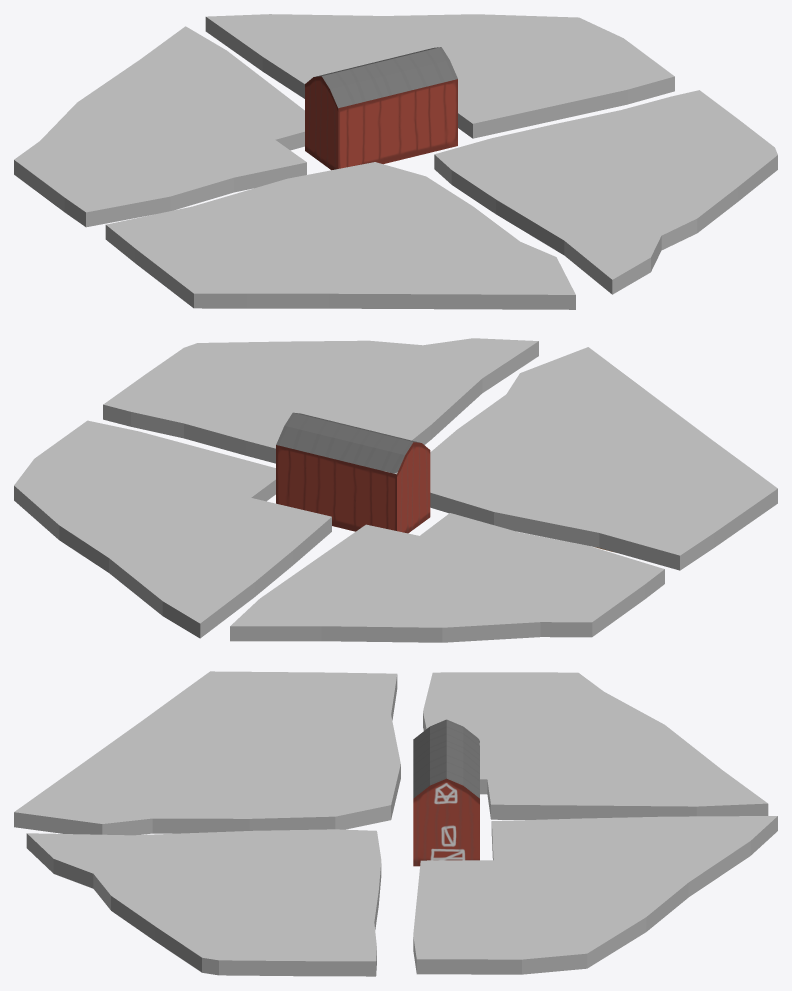
Rendered from Farm Add on.fbx.
3 renders of one model, top to bottom at view 1: azimuth 30°, elevation 25°; view 2: azimuth 150°, elevation 25°; view 3: azimuth 270°, elevation 25°, orthographic.
Parts seen in each view (by area): view 1: Farm 4, Farm 1, Farm 3, Farm 2, Farm House; view 2: Farm 4, Farm 2, Farm 3, Farm 1, Farm House; view 3: Farm 4, Farm 2, Farm 1, Farm 3, Farm House.
Part boxes in pixels (x1,y1,x2,y2): Farm 4: (105,162,575,309); Farm 1: (434,90,777,294); Farm 3: (14,26,306,227); Farm 2: (205,14,674,138); Farm House: (305,47,457,170); Farm 4: (430,347,777,570); Farm 2: (14,420,331,638); Farm 3: (230,513,664,642); Farm 1: (103,338,538,463); Farm House: (276,412,430,533); Farm 4: (14,671,400,835); Farm 2: (413,816,777,974); Farm 1: (26,829,381,976); Farm 3: (423,672,768,819); Farm House: (413,719,479,866).
Size of the model in its own units: 1.65 by 0.2344 by 1.84.
